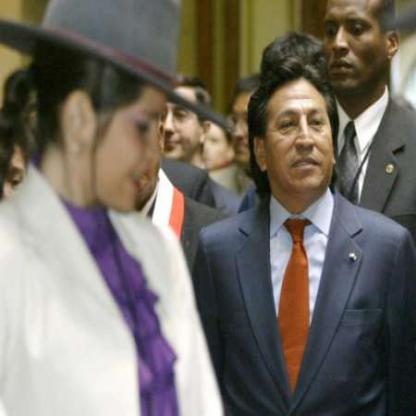face: (85, 26, 175, 218), (262, 65, 338, 199), (319, 1, 392, 100), (151, 77, 203, 164), (228, 80, 275, 170), (191, 115, 231, 175)
